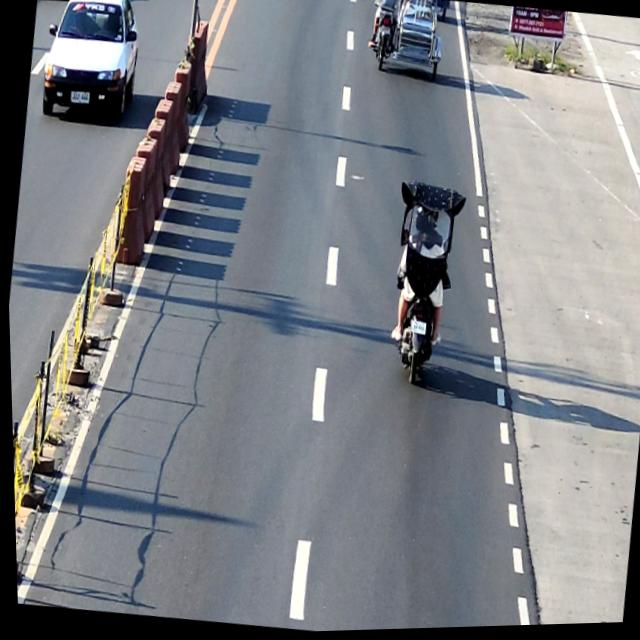Car: (34, 0, 146, 128), (365, 0, 448, 81)
License-Plate: (406, 322, 425, 337), (69, 91, 89, 104), (379, 28, 390, 37)
Motorcycle: (383, 234, 452, 391)
